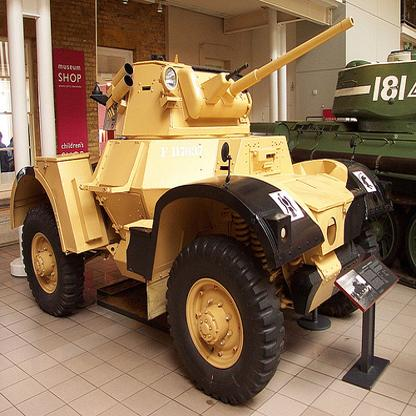Tank: (11, 57, 394, 405)
